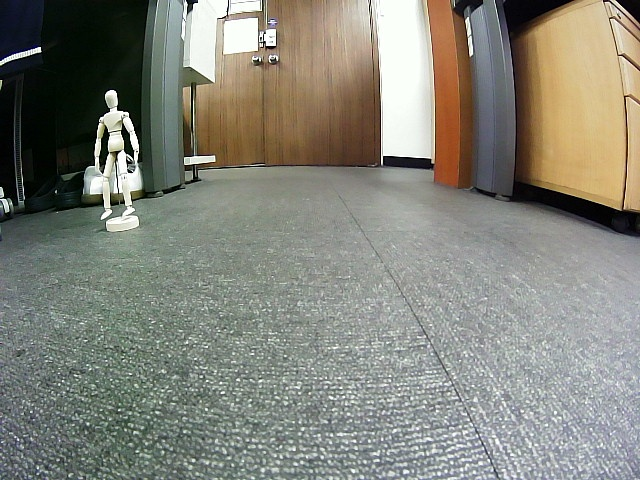person: (94, 88, 139, 221)
